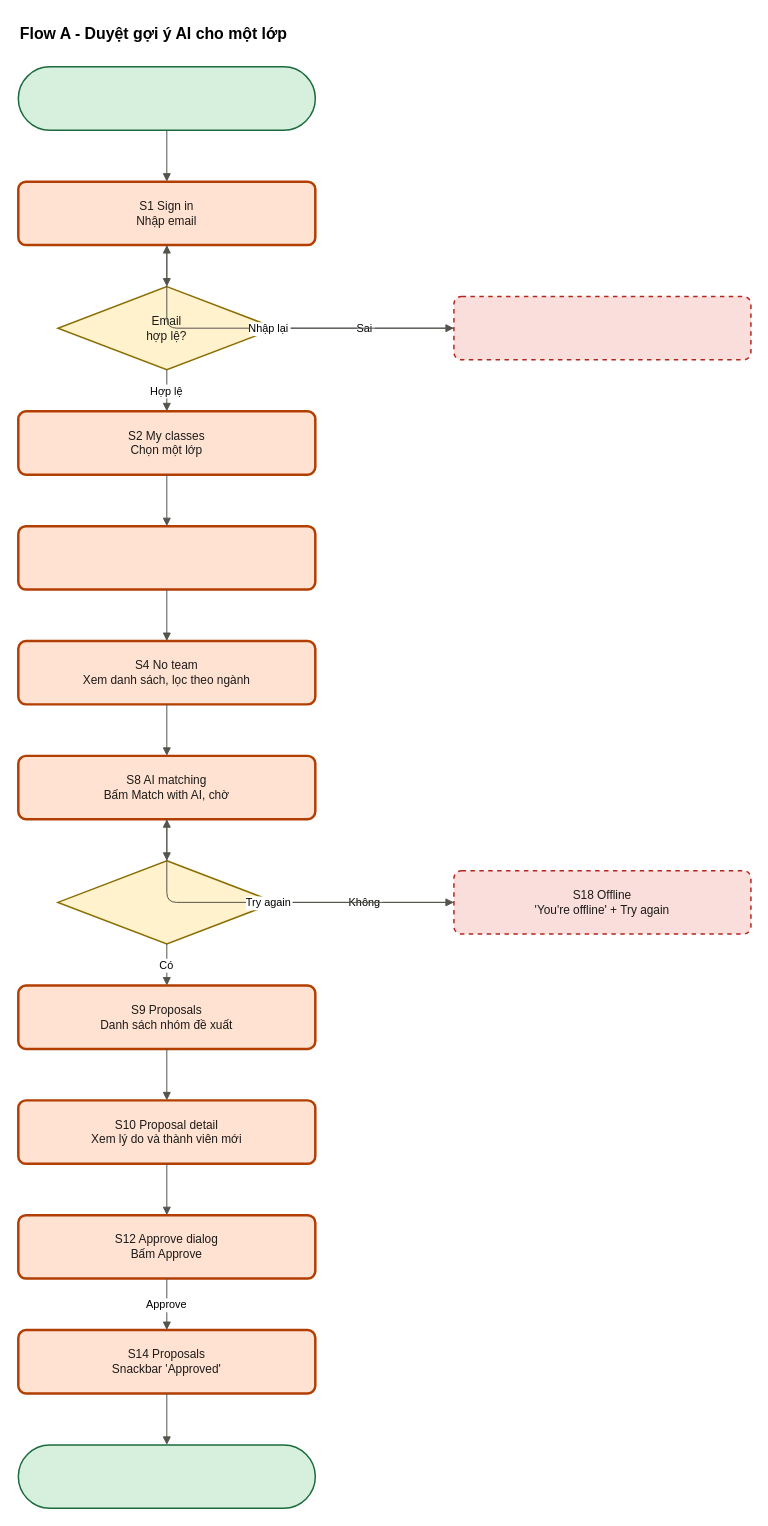
The diagram is 768 pixels wide and 1526 high, and some of its shapes have lost their labels. Each missing label, with the box of its shape:
END Nhóm đã duyệt, SV được báo: (17, 1444, 316, 1509)
Kết nối ổn?: (57, 860, 276, 944)
S19 Sign in, lỗi 'Enter a valid email': (453, 295, 751, 360)
S3 Class detail Xem số SV chưa có nhóm: (17, 525, 316, 590)
START Mentor mở app: (17, 66, 316, 130)
